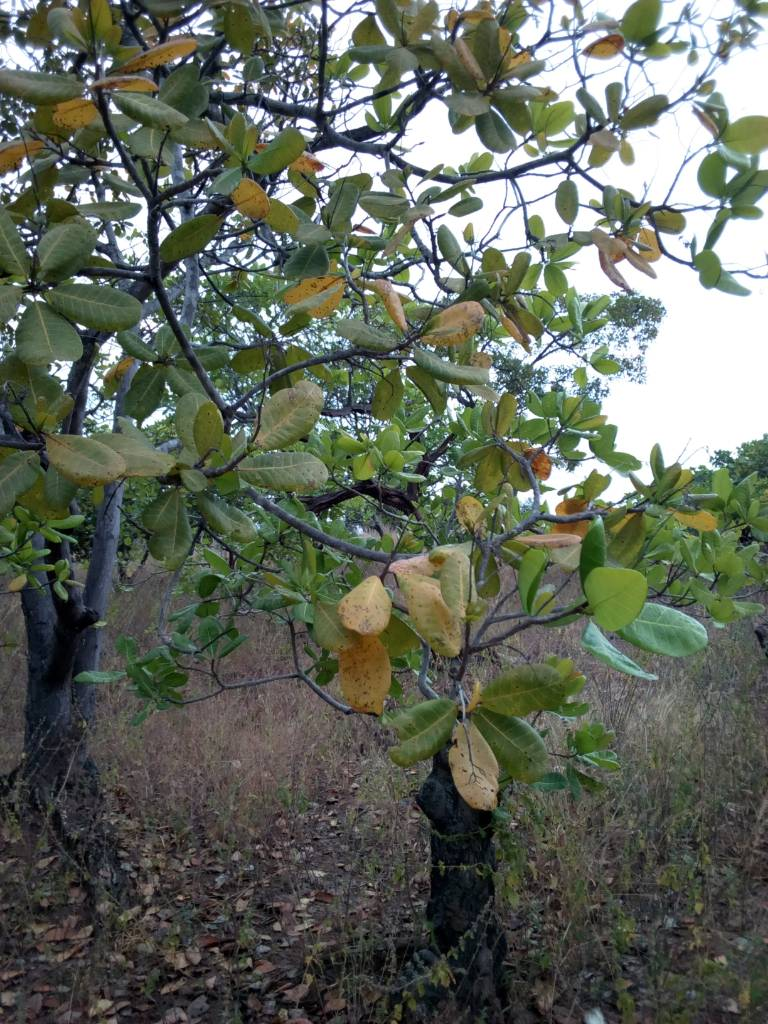Anthracnose: (46, 432, 127, 486), (343, 644, 393, 716), (338, 574, 393, 638)
